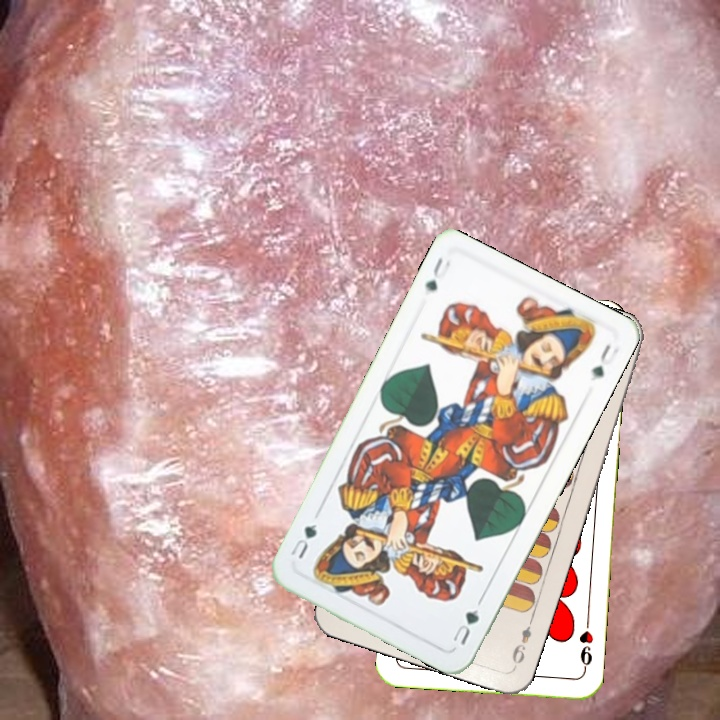E9: (507, 613, 536, 670)
GU: (447, 605, 482, 648), (421, 252, 453, 294)
H9: (575, 615, 596, 674)
